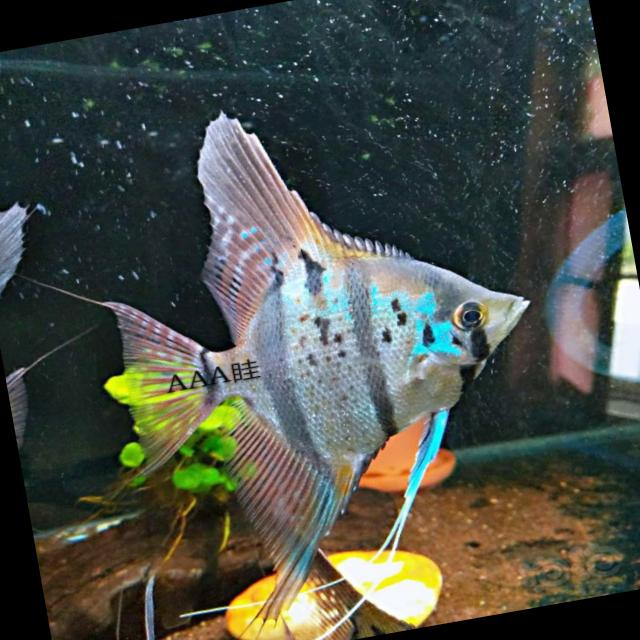AngelFish: (90, 63, 574, 640)
